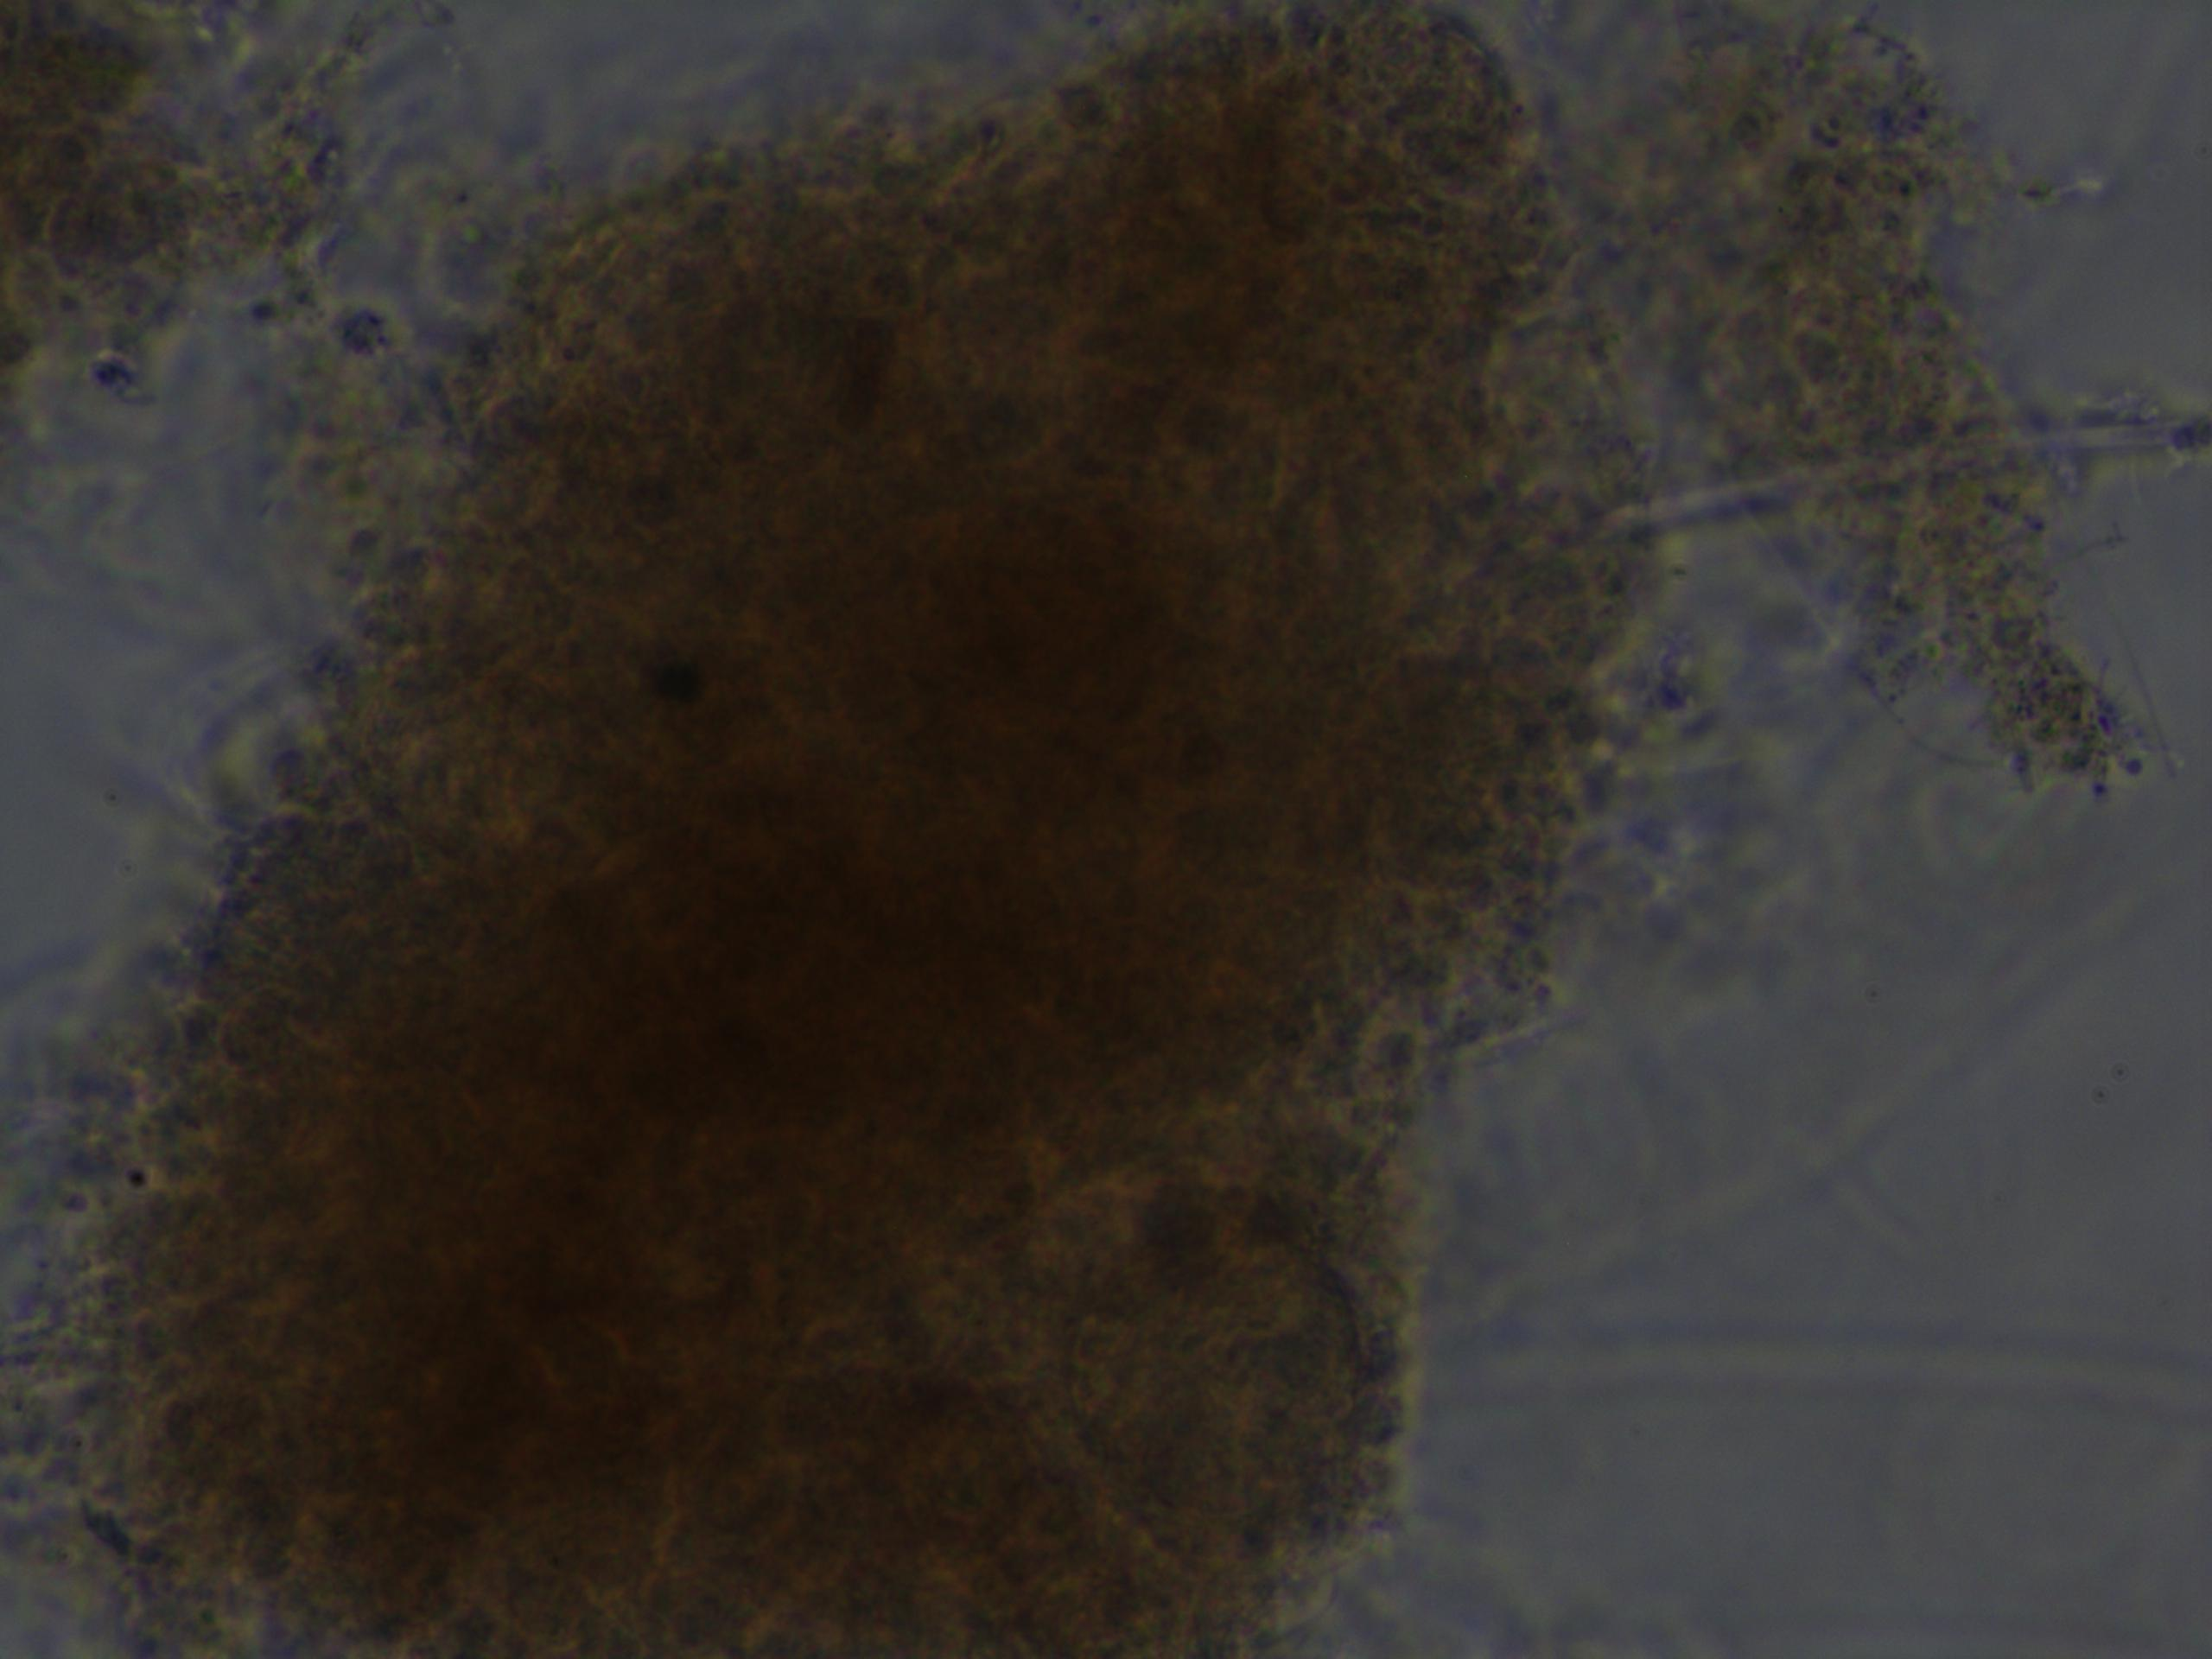filament: (1407, 852, 2212, 1420), (1632, 385, 2212, 558)
spherical_floc: (2, 0, 1625, 1659)
